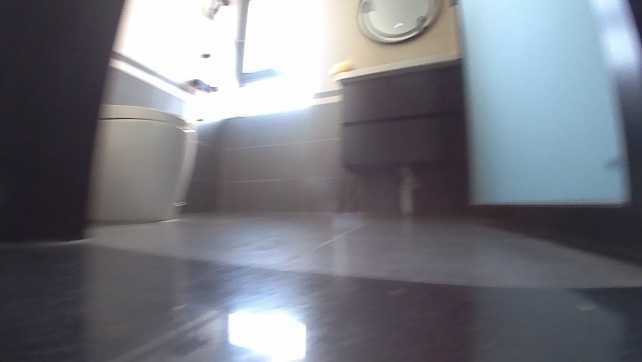toilet: (87, 97, 203, 223)
washstand: (332, 50, 463, 170)
